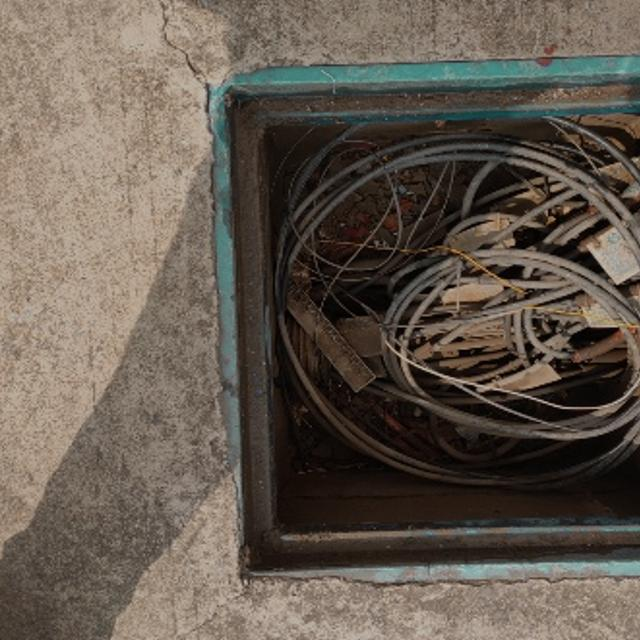lose: (207, 51, 640, 584)
